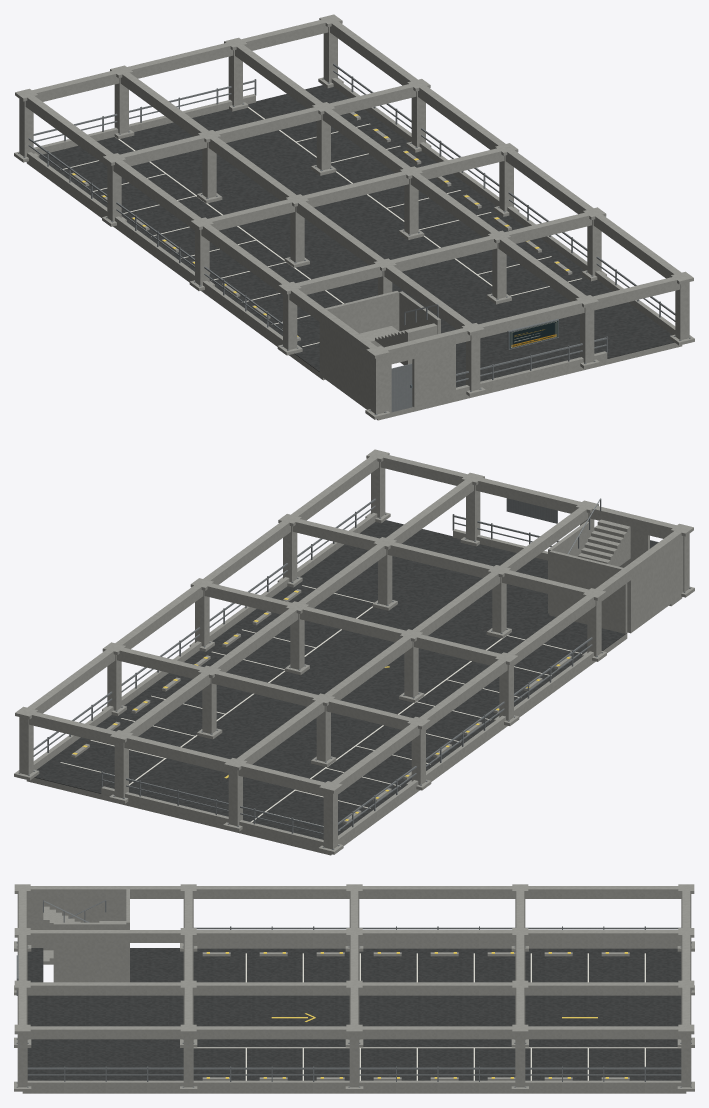
File: PZ_MorrowPark_FloorKit_16x32m.glb
The picture shows the model from 3 angles, top to bottom: view 1: azimuth 30°, elevation 25°; view 2: azimuth 150°, elevation 25°; view 3: azimuth 270°, elevation 25°; orthographic projection. The views are drawn at different scales.
Parts seen in each view (by area): view 1: FLOOR_Perimeter_SafetyRails, FLOOR_WearingCourse_X03_Y00, STAIR_CoreWall_WEST, FLOOR_WearingCourse_X02_Y04, FLOOR_WearingCourse_X02_Y02, FLOOR_WearingCourse_X02_Y06, FLOOR_WearingCourse_X01_Y06, FLOOR_WearingCourse_X01_Y04, STAIR_CoreWall_FRONT_R, STAIR_CoreWall_BACK, FLOOR_WearingCourse_X03_Y04, FLOOR_WearingCourse_X03_Y06 (+75 smaller); view 2: FLOOR_Perimeter_SafetyRails, STAIR_CoreWall_BACK, STAIR_CoreWall_WEST, FLOOR_WearingCourse_X03_Y07, FLOOR_WearingCourse_X02_Y01, FLOOR_WearingCourse_X02_Y03, FLOOR_WearingCourse_X02_Y05, FLOOR_WearingCourse_X01_Y03, FLOOR_WearingCourse_X01_Y05, FLOOR_WearingCourse_X02_Y07, FLOOR_WearingCourse_X01_Y01, FLOOR_WearingCourse_X03_Y01 (+74 smaller); view 3: FLOOR_Perimeter_SafetyRails, STAIR_CoreWall_EAST, FLOOR_WearingCourse_X00_Y07, FLOOR_WearingCourse_X00_Y06, FLOOR_WearingCourse_X00_Y02, FLOOR_WearingCourse_X00_Y04, FLOOR_WearingCourse_X00_Y03, FLOOR_WearingCourse_X00_Y05, STAIR_CoreWall_WEST, BEAM_Y_X11_0_8, BEAM_Y_X11_8_16, BEAM_Y_X11_16_24 (+70 smaller).
Boxes of the visible parts, box(x1,y1,x2,y2) form: FLOOR_Perimeter_SafetyRails: box(27, 63, 639, 396); FLOOR_WearingCourse_X03_Y00: box(563, 308, 674, 358); STAIR_CoreWall_WEST: box(319, 322, 377, 409); FLOOR_WearingCourse_X02_Y04: box(322, 198, 429, 245); FLOOR_WearingCourse_X02_Y02: box(410, 262, 516, 310); FLOOR_WearingCourse_X02_Y06: box(235, 134, 342, 181); FLOOR_WearingCourse_X01_Y06: box(147, 154, 259, 202); FLOOR_WearingCourse_X01_Y04: box(234, 218, 347, 267); STAIR_CoreWall_FRONT_R: box(412, 342, 455, 407); STAIR_CoreWall_BACK: box(324, 291, 399, 347); FLOOR_WearingCourse_X03_Y04: box(387, 180, 497, 230); FLOOR_WearingCourse_X03_Y06: box(299, 115, 410, 165); FLOOR_Perimeter_SafetyRails: box(33, 514, 593, 847); STAIR_CoreWall_BACK: box(549, 550, 627, 633); STAIR_CoreWall_WEST: box(627, 529, 684, 633); FLOOR_WearingCourse_X03_Y07: box(34, 743, 145, 793); FLOOR_WearingCourse_X02_Y01: box(367, 569, 473, 616); FLOOR_WearingCourse_X02_Y03: box(279, 633, 386, 680); FLOOR_WearingCourse_X02_Y05: box(191, 697, 298, 745); FLOOR_WearingCourse_X01_Y03: box(361, 653, 474, 702); FLOOR_WearingCourse_X01_Y05: box(273, 717, 386, 766); FLOOR_WearingCourse_X02_Y07: box(111, 761, 221, 806); FLOOR_WearingCourse_X01_Y01: box(449, 589, 549, 637); FLOOR_WearingCourse_X03_Y01: box(298, 550, 409, 600); FLOOR_Perimeter_SafetyRails: box(105, 926, 681, 1088); STAIR_CoreWall_EAST: box(53, 922, 126, 982); FLOOR_WearingCourse_X00_Y07: box(603, 948, 681, 982); FLOOR_WearingCourse_X00_Y06: box(525, 948, 603, 982); FLOOR_WearingCourse_X00_Y02: box(193, 948, 271, 982); FLOOR_WearingCourse_X00_Y04: box(359, 948, 437, 982); FLOOR_WearingCourse_X00_Y03: box(271, 948, 349, 982); FLOOR_WearingCourse_X00_Y05: box(437, 948, 515, 982); STAIR_CoreWall_WEST: box(24, 886, 126, 947); BEAM_Y_X11_0_8: box(23, 982, 188, 995); BEAM_Y_X11_8_16: box(188, 982, 354, 995); BEAM_Y_X11_16_24: box(355, 982, 519, 995).
Bounding box in the file's own units: 16.84 × 4.57 × 32.84.
7 materials, 4 textured.
